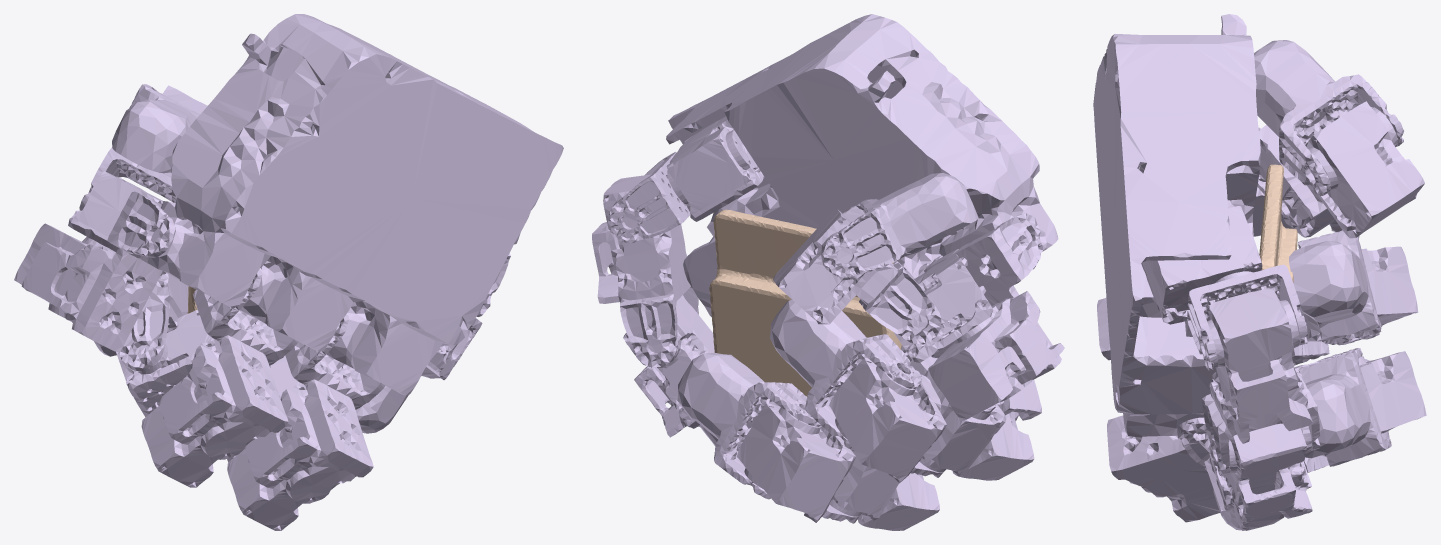
Rendered from 06d644d4efa839-closed.glb.
3 renders of one model, left to right at view 1: azimuth 30°, elevation 25°; view 2: azimuth 150°, elevation 25°; view 3: azimuth 270°, elevation 25°, orthographic. The views are drawn at different scales.
Parts seen in each view (by area): view 1: LEAP_hand; view 2: LEAP_hand, world; view 3: LEAP_hand, world.
Boxes of the visible parts, bbox=[...] form: LEAP_hand: bbox=[14, 14, 563, 530]; LEAP_hand: bbox=[592, 14, 1064, 530]; world: bbox=[709, 209, 901, 396]; LEAP_hand: bbox=[1093, 14, 1426, 530]; world: bbox=[1259, 164, 1297, 282].
Bounding box in the file's own units: 0.193 × 0.1875 × 0.111.
